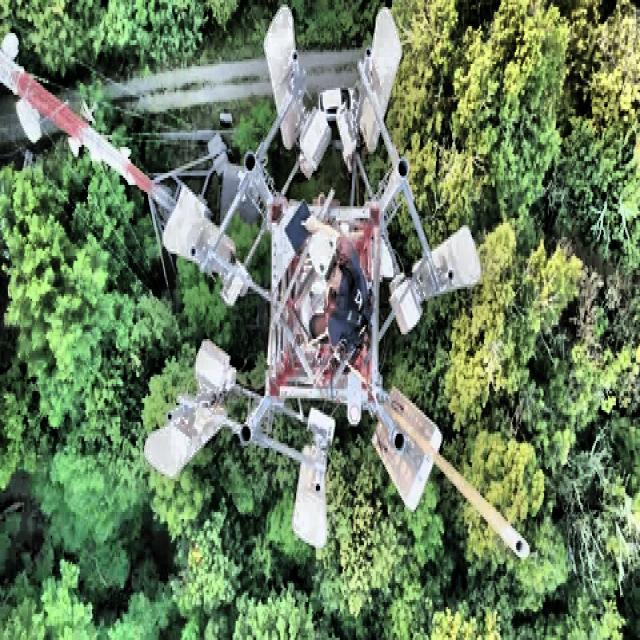antenna: (142, 294, 268, 433), (372, 389, 441, 509), (162, 185, 234, 272), (264, 5, 303, 148), (413, 226, 480, 298), (365, 8, 401, 118), (292, 445, 327, 547)
